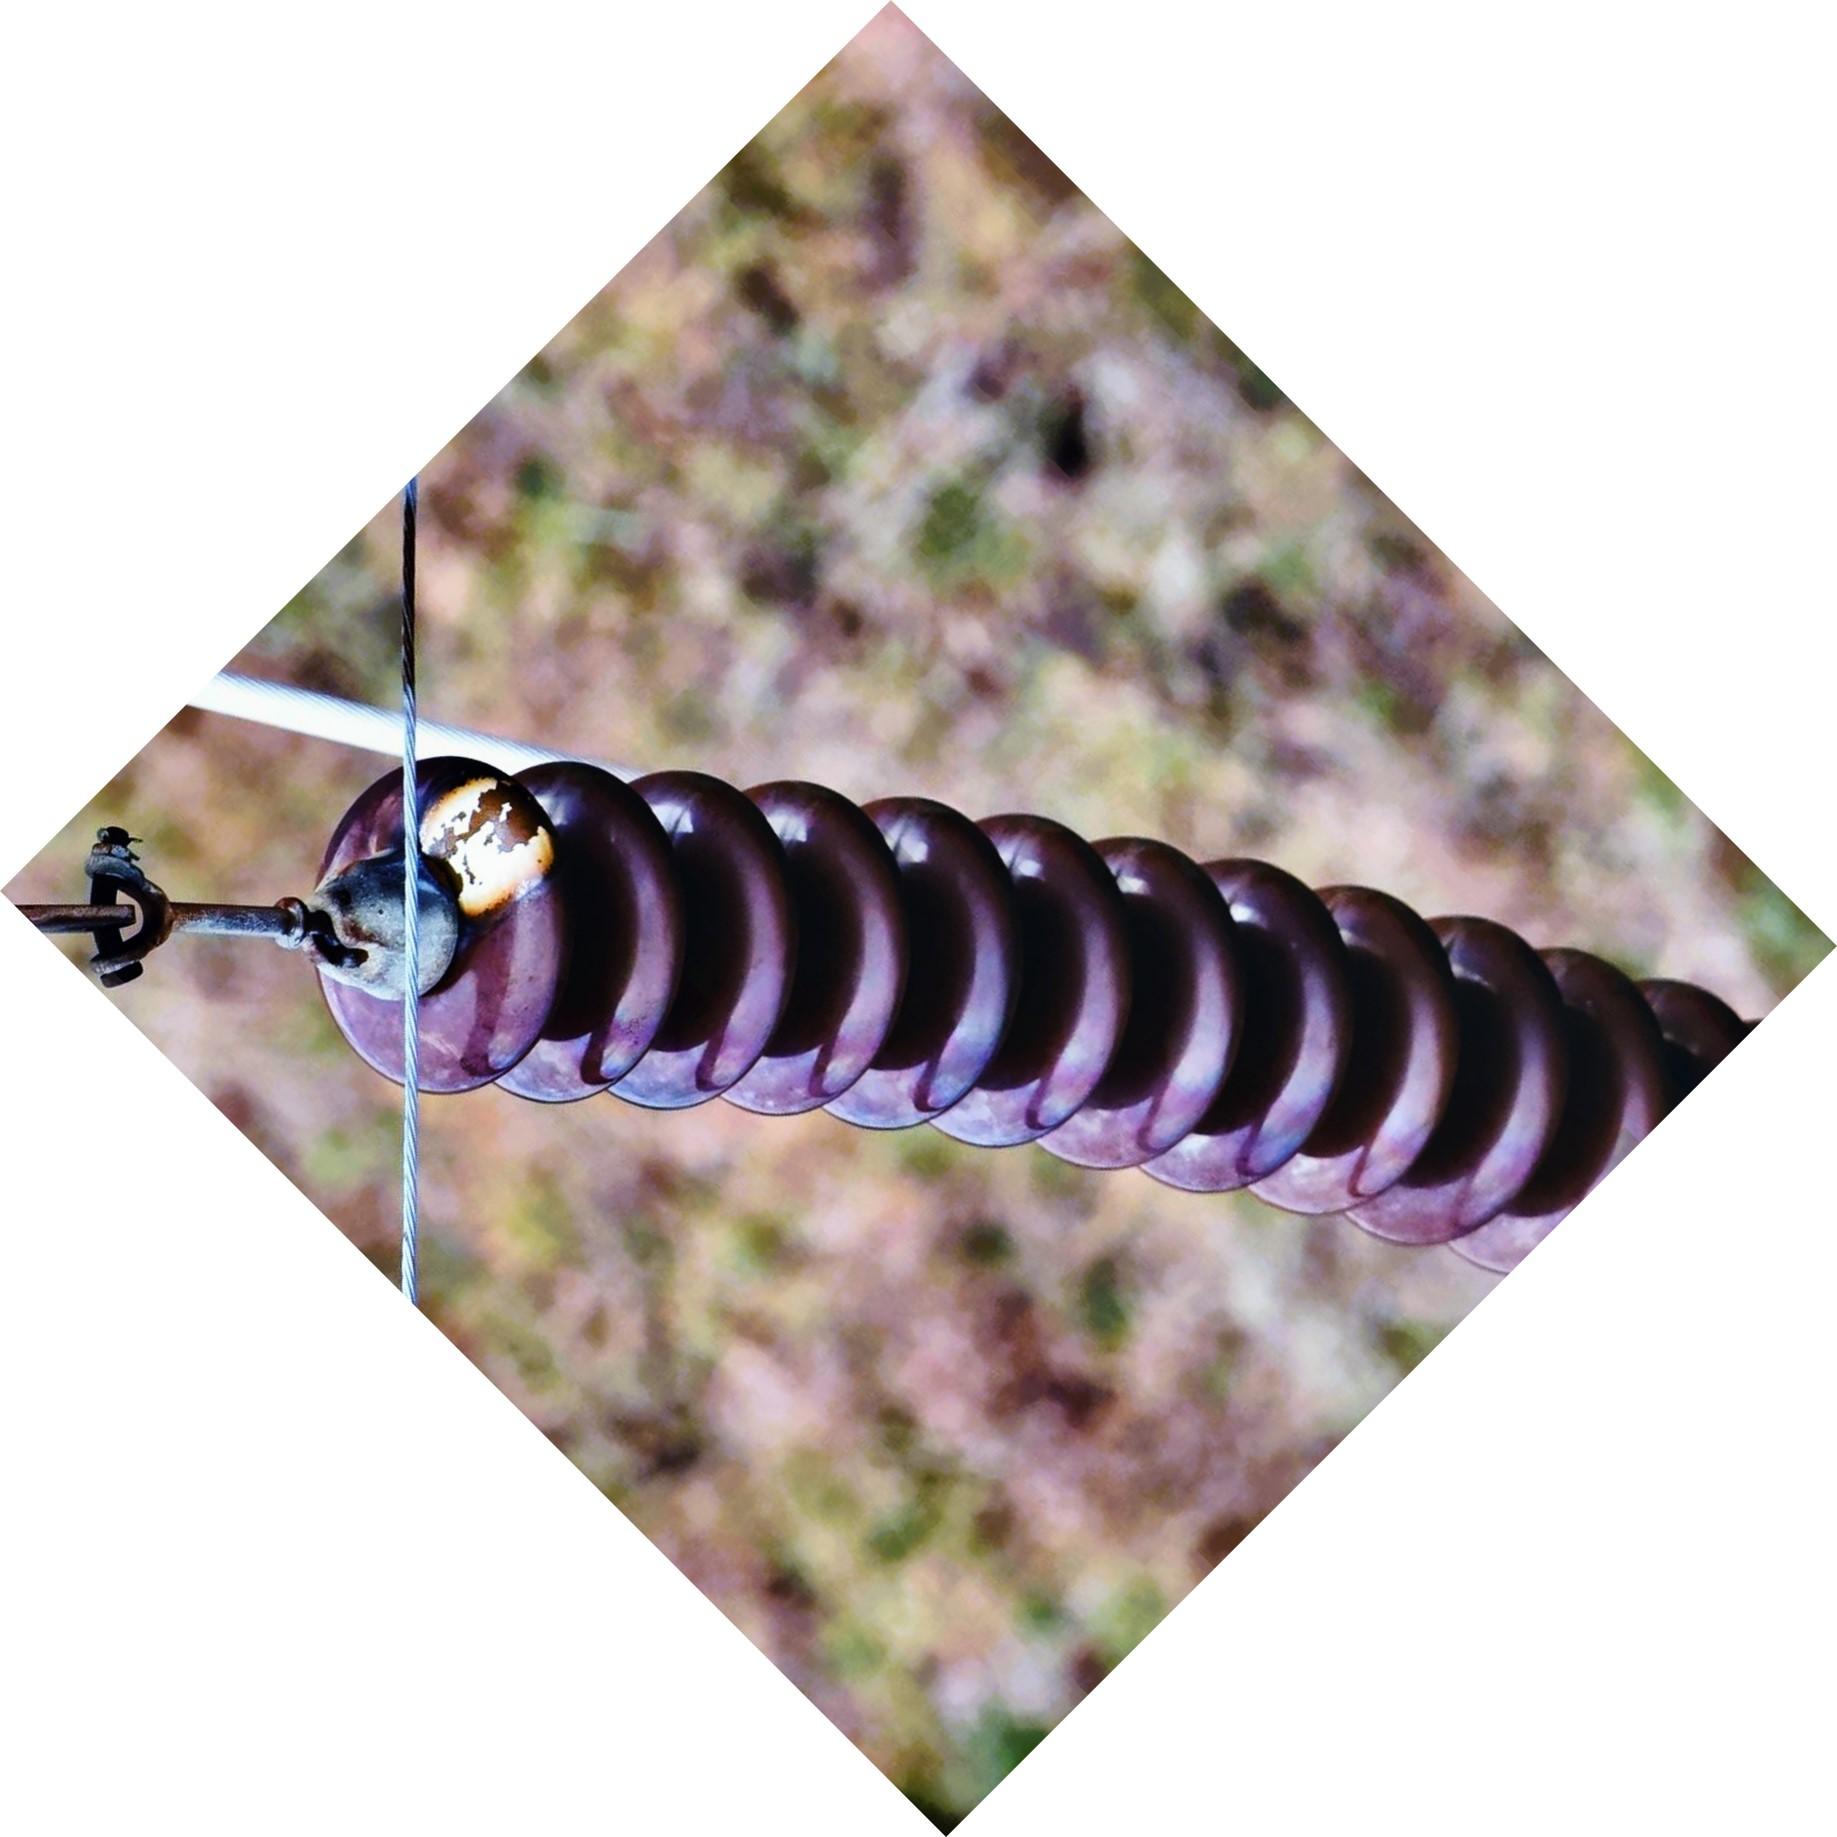Insulator flashover: (288, 733, 596, 1107)
